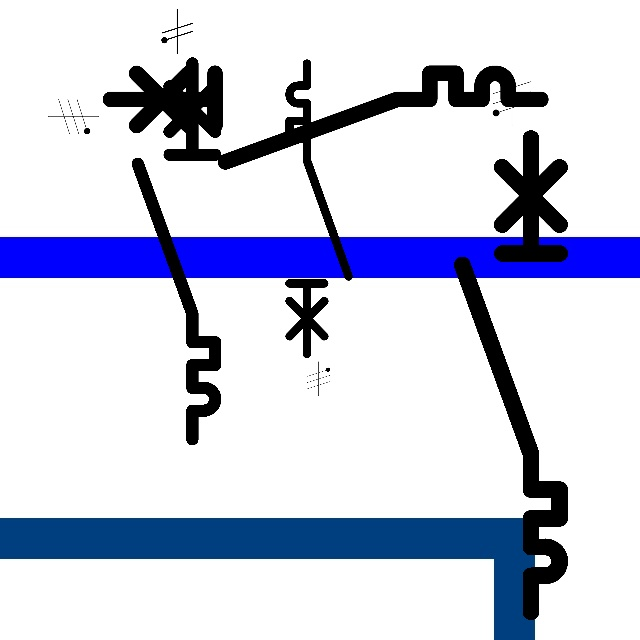interruptor_termomagnetico: (450, 126, 572, 623), (99, 62, 552, 173), (128, 53, 225, 449), (282, 56, 356, 361)
